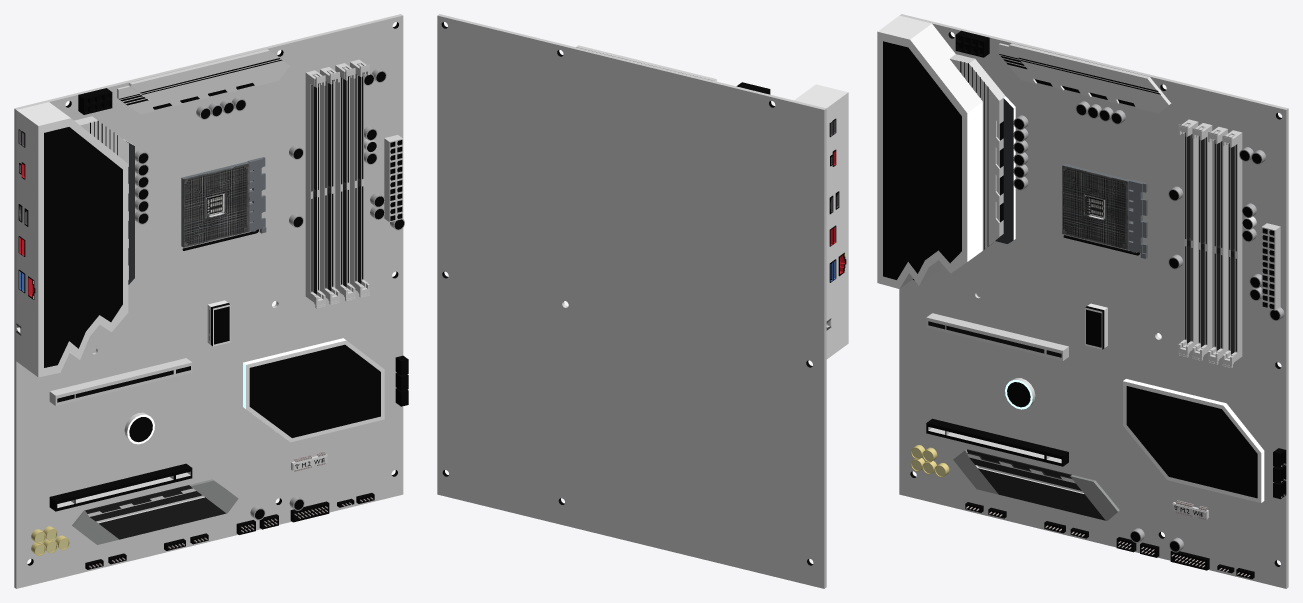
The model's file is MB MSI1.fbx.
3 views of the same model, side by side, from view 1: azimuth 30°, elevation 25°; view 2: azimuth 150°, elevation 25°; view 3: azimuth 330°, elevation 25° (orthographic).
Visible parts, largest first — view 1: Plane, Plane.006, Plane.007, Plane.001, Plane.011, Cube.063, Plane.002, Plane.010, Plane.008, Plane.003, Cube.003, Cube.001 (+8 smaller); view 2: Plane, Plane.006, Cube.002; view 3: Plane, Plane.006, Plane.007, Plane.001, Plane.011, Cube.063, Plane.004, Plane.002, Plane.010, Plane.008, Plane.003, Plane.005 (+7 smaller).
Part boxes in pixels (x1=…): Plane: x1=14, y1=14, x2=403, y2=588; Plane.006: x1=16, y1=102, x2=128, y2=377; Plane.007: x1=305, y1=59, x2=367, y2=302; Plane.001: x1=243, y1=338, x2=384, y2=442; Plane.011: x1=72, y1=479, x2=238, y2=544; Cube.063: x1=181, y1=161, x2=249, y2=247; Plane.002: x1=128, y1=49, x2=290, y2=100; Plane.010: x1=49, y1=463, x2=192, y2=511; Plane.008: x1=49, y1=358, x2=192, y2=405; Plane.003: x1=117, y1=67, x2=288, y2=114; Cube.003: x1=384, y1=135, x2=403, y2=222; Cube.001: x1=247, y1=157, x2=266, y2=233; Plane: x1=437, y1=14, x2=826, y2=588; Plane.006: x1=794, y1=84, x2=848, y2=359; Cube.002: x1=826, y1=118, x2=846, y2=330; Plane: x1=899, y1=14, x2=1288, y2=588; Plane.006: x1=877, y1=15, x2=982, y2=288; Plane.007: x1=1180, y1=119, x2=1242, y2=362; Plane.001: x1=1123, y1=379, x2=1264, y2=502; Plane.011: x1=953, y1=449, x2=1119, y2=520; Cube.063: x1=1062, y1=164, x2=1130, y2=249; Plane.004: x1=950, y1=54, x2=1005, y2=250; Plane.002: x1=1008, y1=43, x2=1170, y2=104; Plane.010: x1=926, y1=418, x2=1068, y2=466; Plane.008: x1=926, y1=313, x2=1068, y2=360; Plane.003: x1=998, y1=43, x2=1168, y2=113; Plane.005: x1=995, y1=96, x2=1015, y2=243.
Size of the model in its own units: 191 by 225 by 20.6.
Materials: 97 (2 with a texture image).
